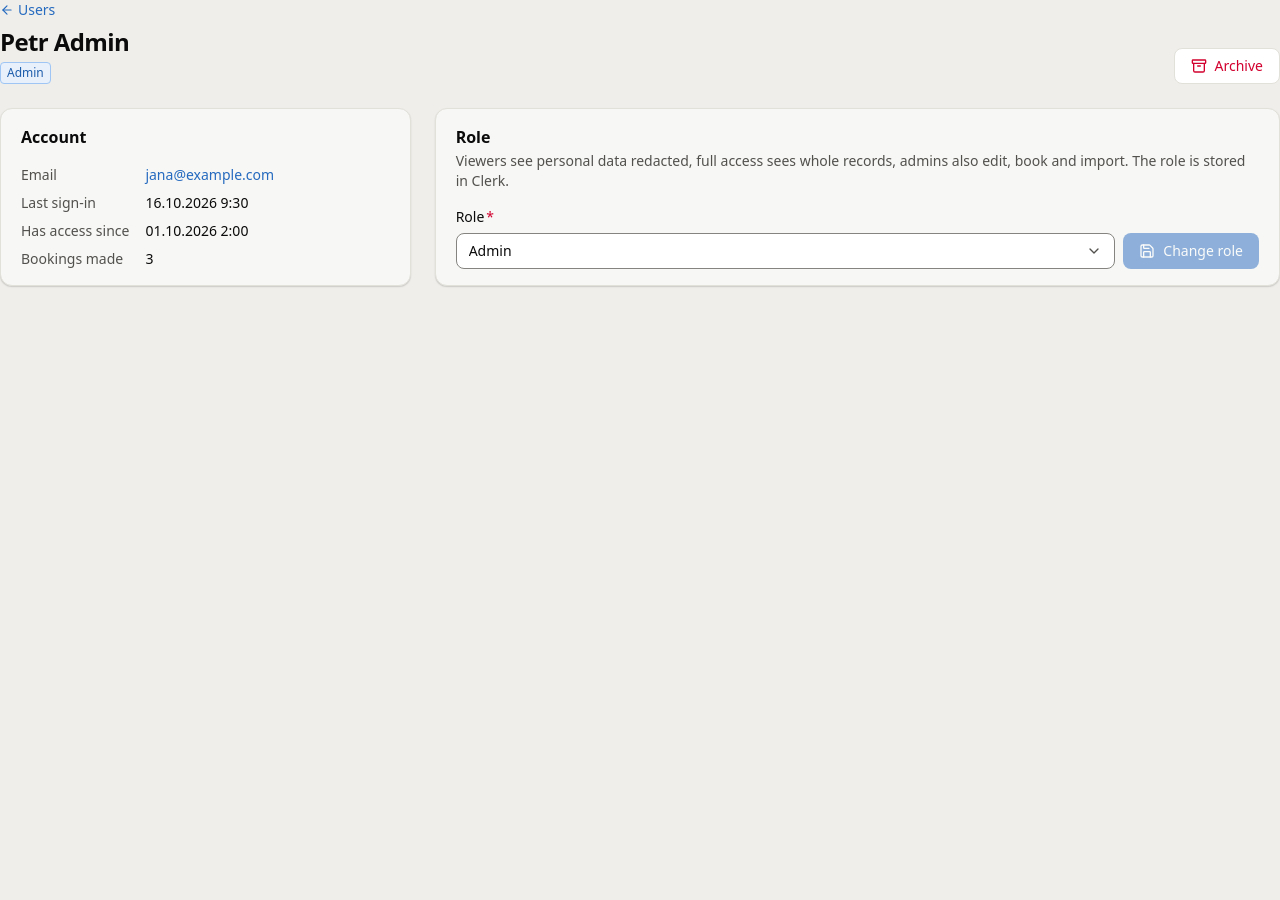
a user › shows the account and changes the role, saying why a change is refused
The width and height of the screenshot is (1280, 900).
Check: the heading "Petr Admin" is shown, box [0,26,129,58]
Check: the text "3" is shown, box [145,249,153,268]
Click the dropdown named "Role".
click(490, 250)  # box [456,233,1115,269]
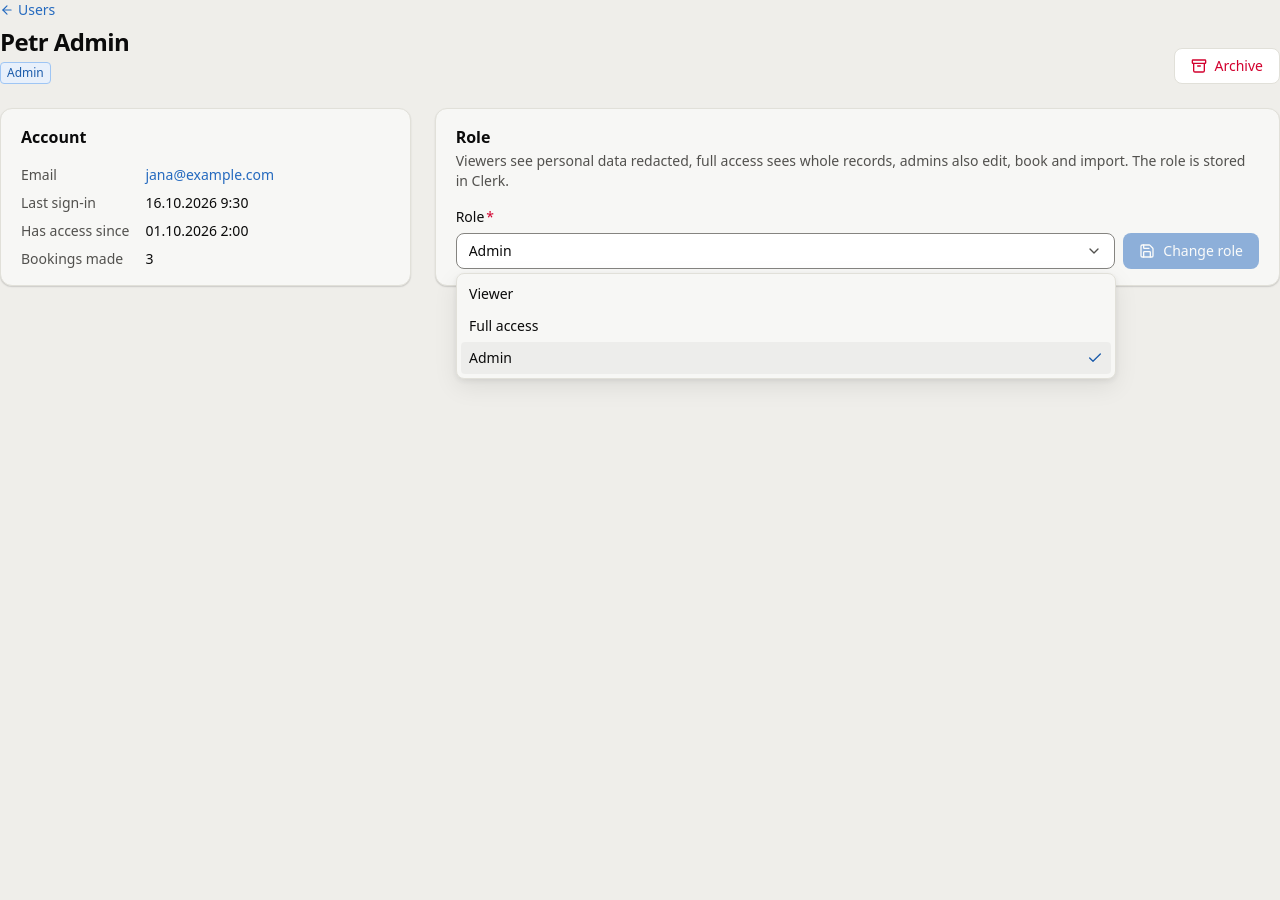
Click the option "Full access".
click(504, 326)  # box [469,316,538,335]
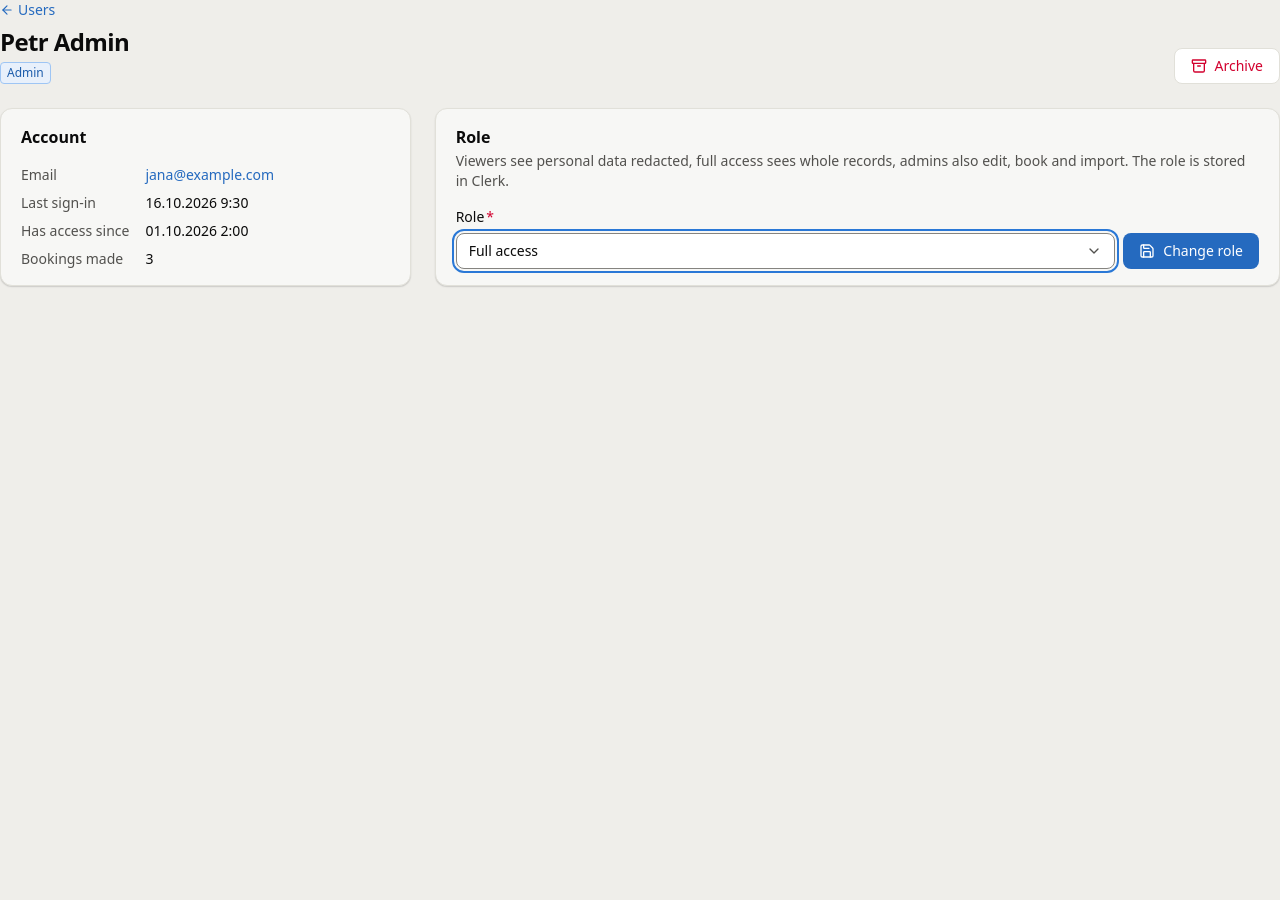
Nothing chosen yet: nothing to change.
Click the button "Change role".
click(1191, 251)  # box [1123,233,1259,269]
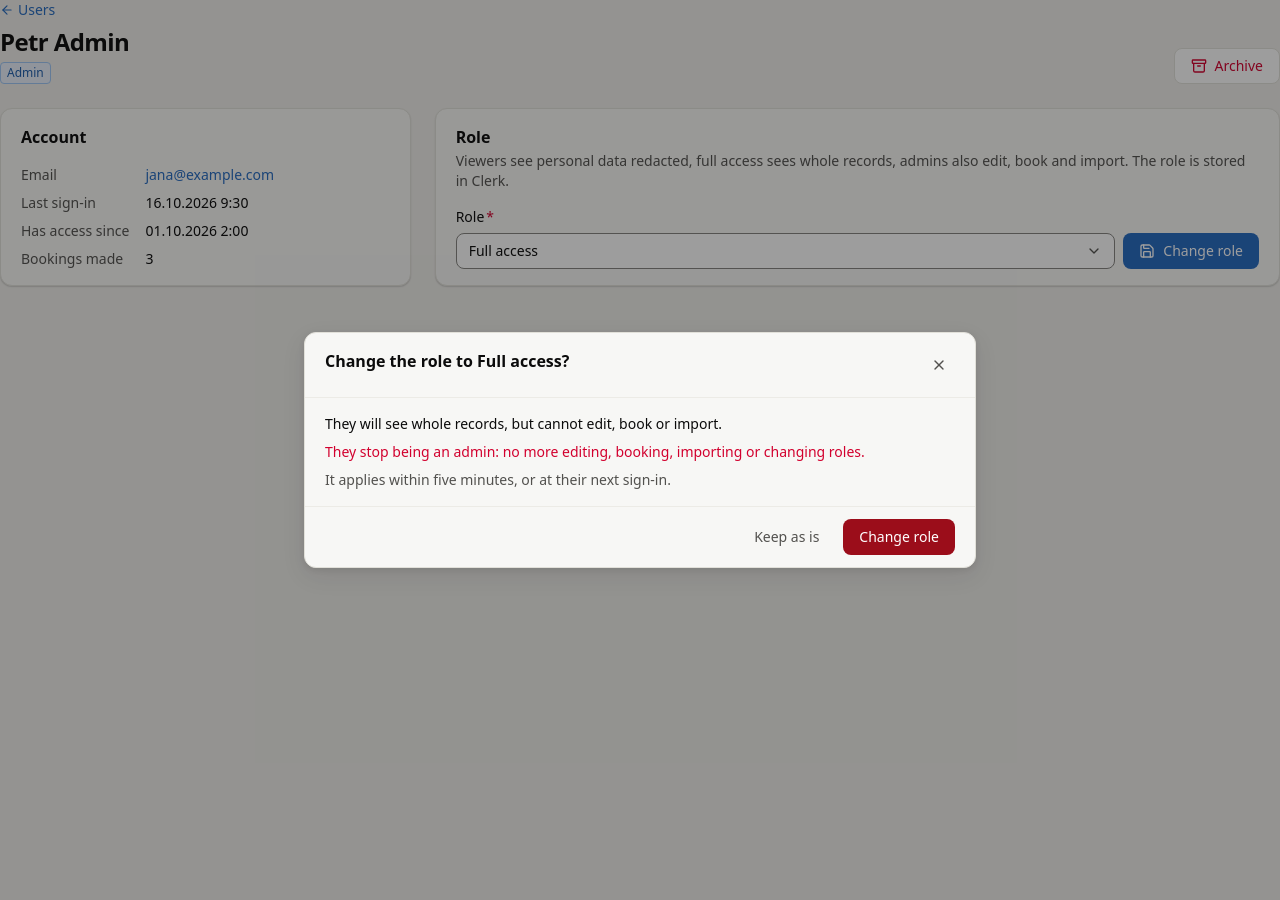
Check: the text "They stop being an admin" is shown, box [325,442,865,461]
Click the button "Change role".
click(899, 537)  # box [843,519,955,555]
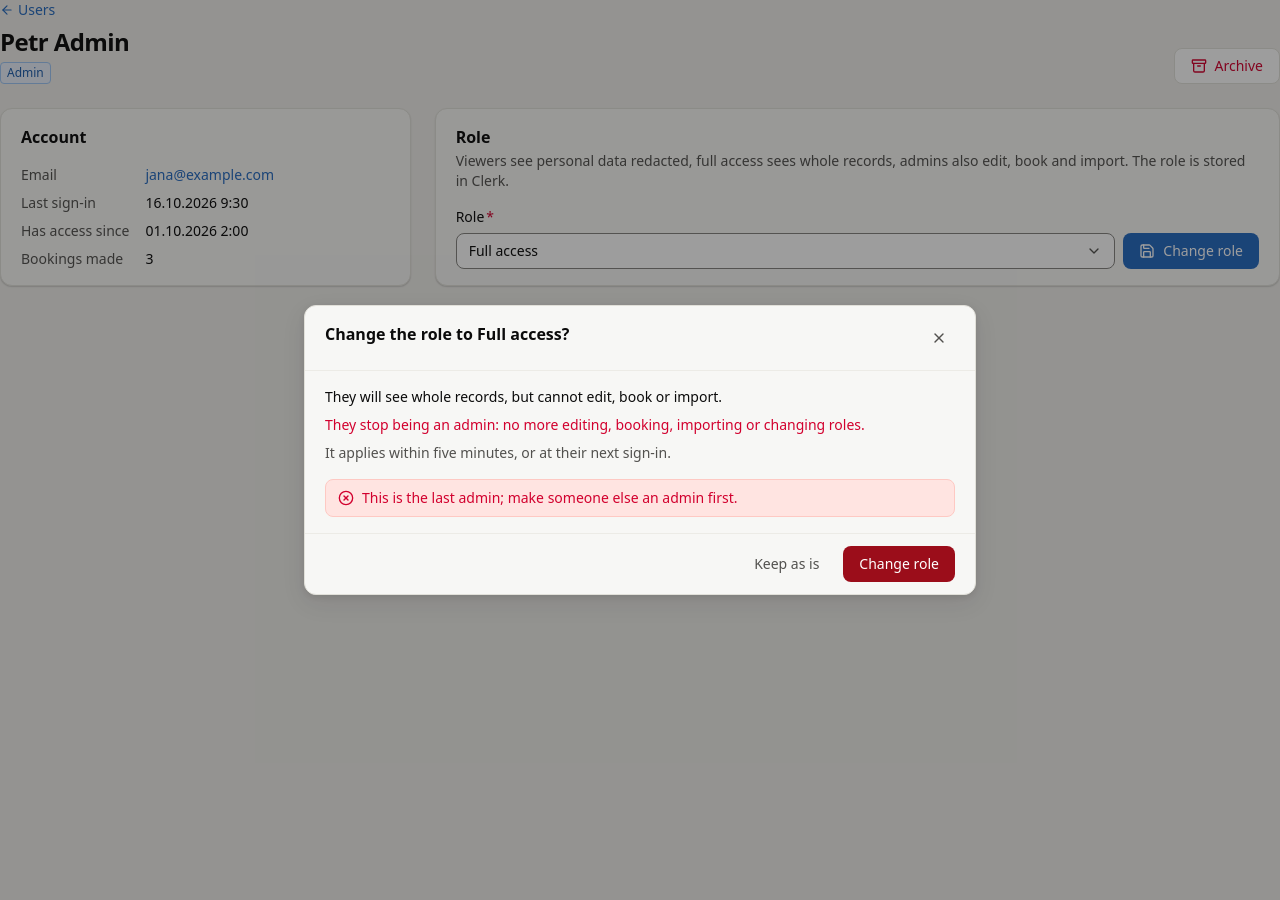
Check: the text "This is the last admin; make someone else an admin first." is shown, box [362,488,738,508]
